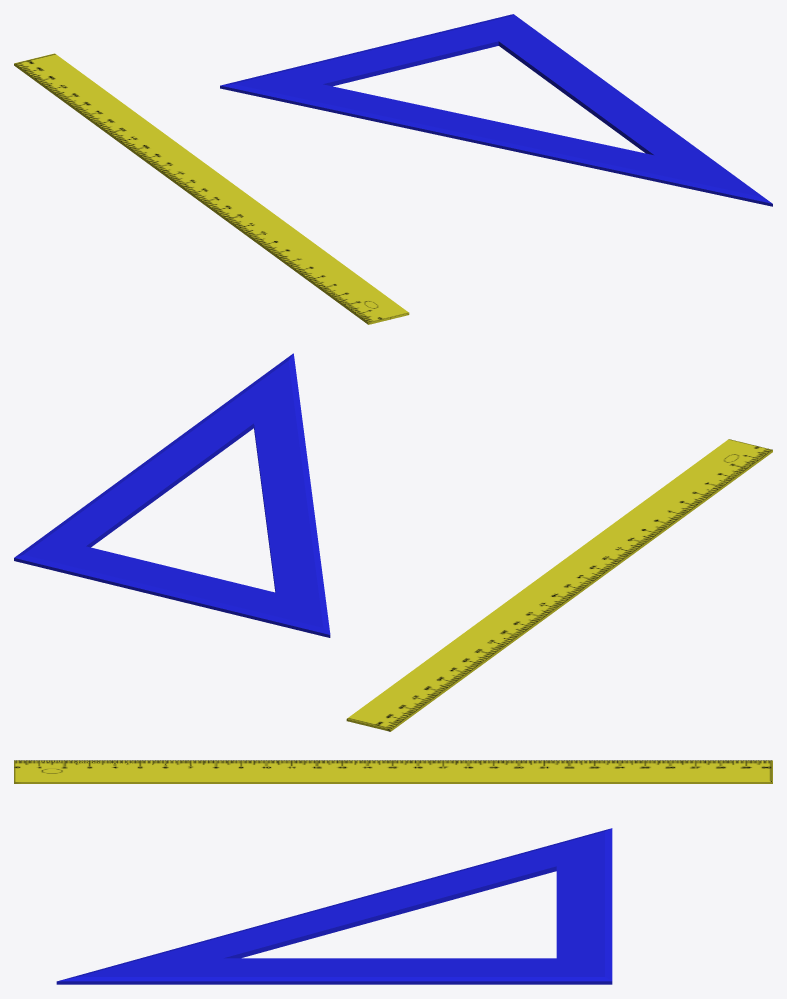
The model's file is rulersNew.fbx.
The picture shows the model from 3 angles, top to bottom: view 1: azimuth 30°, elevation 25°; view 2: azimuth 150°, elevation 25°; view 3: azimuth 270°, elevation 25°; orthographic projection. The views are drawn at different scales.
Parts seen in each view (by area): view 1: Plane.001, Plane; view 2: Plane.001, Plane; view 3: Plane.001, Plane.
Part boxes in pixels (box(x1,y1,x2,y2)): Plane.001: box(220, 14, 772, 206); Plane: box(14, 53, 409, 324); Plane.001: box(14, 353, 330, 637); Plane: box(346, 439, 772, 731); Plane.001: box(56, 828, 612, 984); Plane: box(14, 760, 772, 783).
Bounding box in the file's own units: 20.74 × 0.213 × 30.
Materials: 2 (1 with a texture image).
